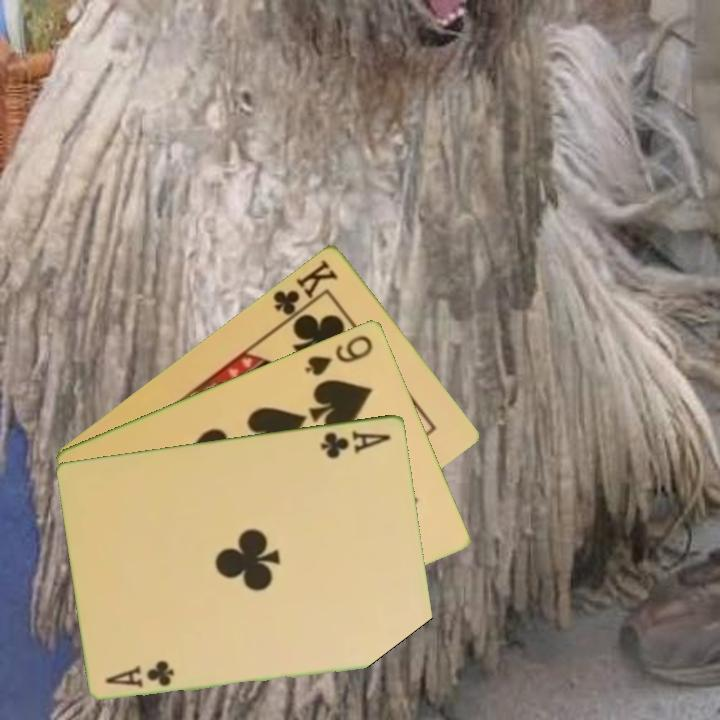9s: (301, 331, 376, 379)
Ac: (317, 426, 394, 461), (102, 658, 178, 690)
Kc: (269, 255, 341, 326)
